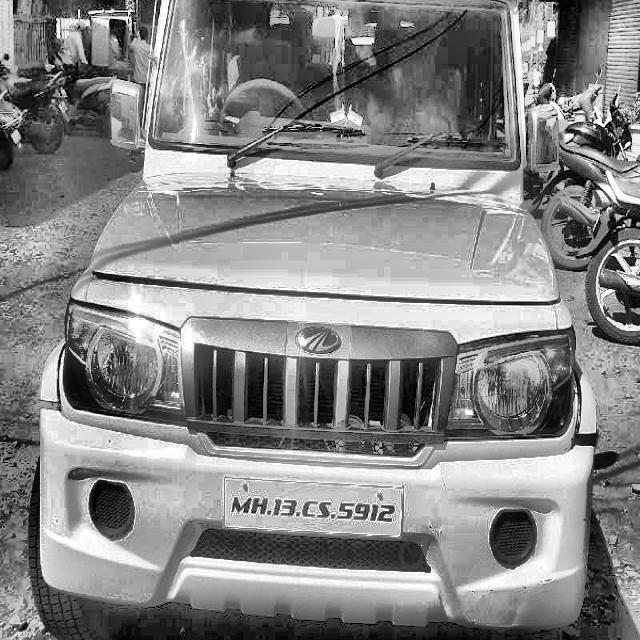light_vehicle: (38, 0, 594, 640)
